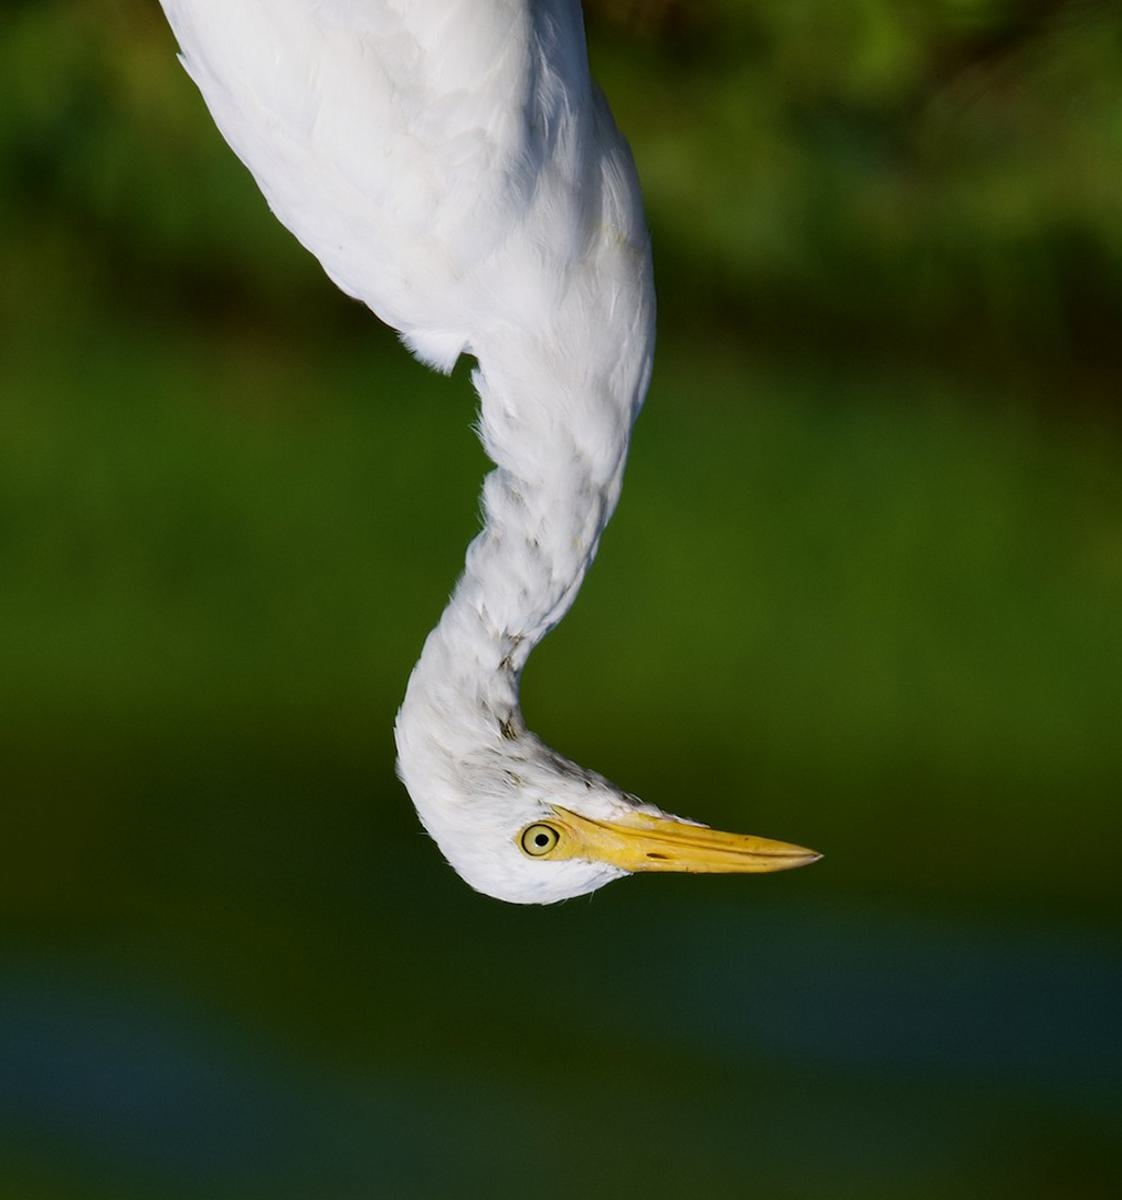egret: (99, 1, 829, 938)
